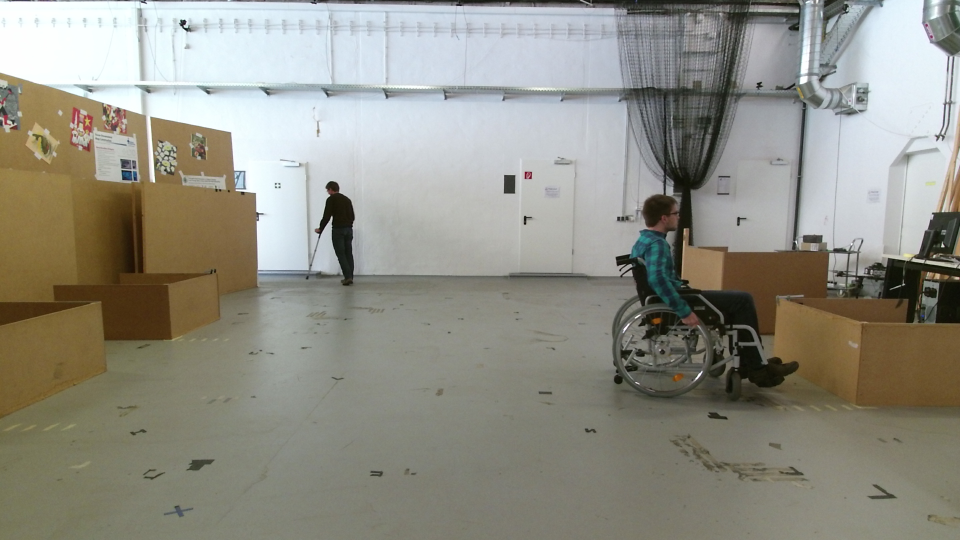crutches: (297, 165, 362, 296)
wheelchair: (605, 184, 800, 418)
